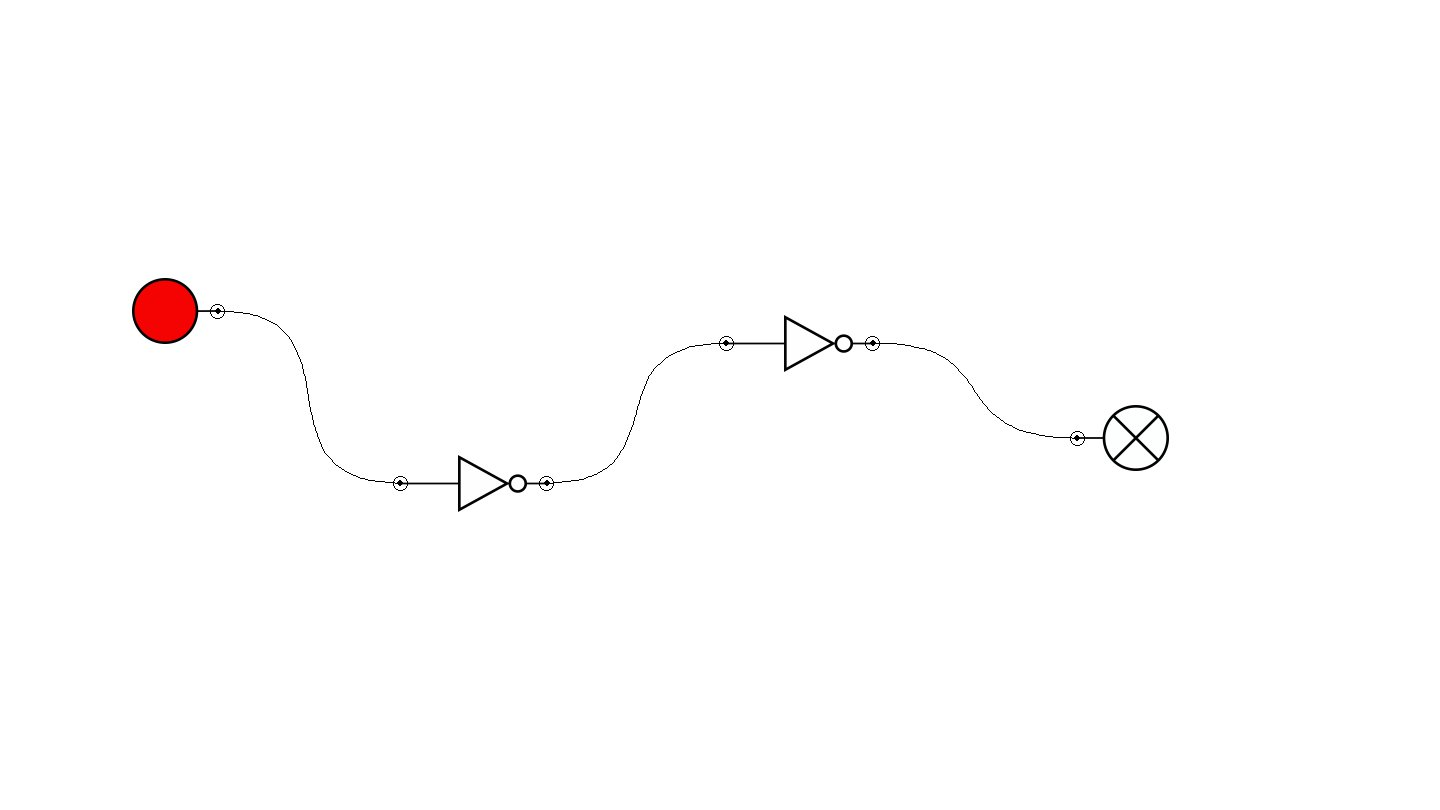bulb: (1070, 405, 1169, 471)
not: (719, 315, 880, 372), (393, 455, 554, 512)
switch_False: (132, 278, 225, 344)
